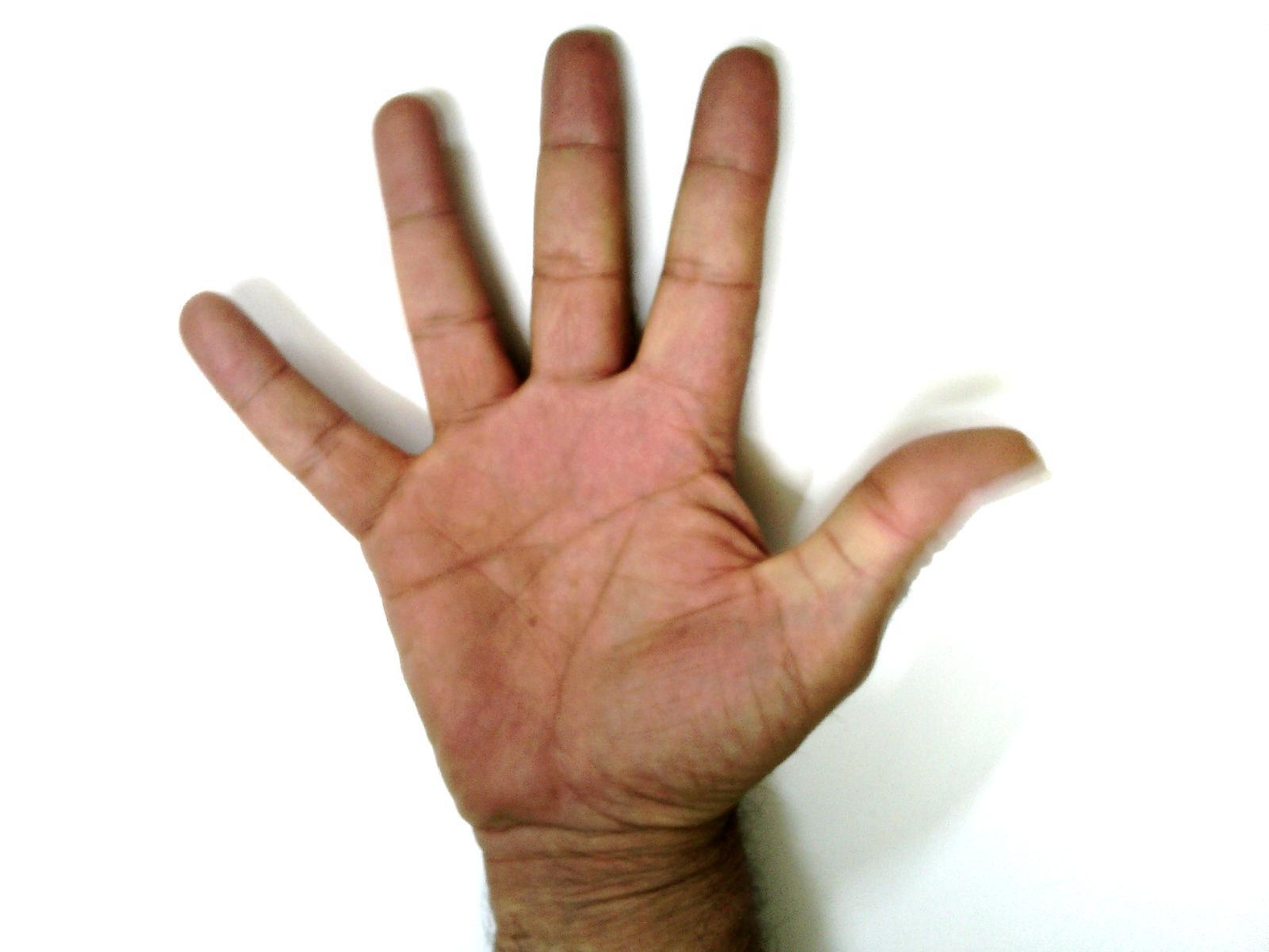open_palm: (177, 24, 1051, 838)
